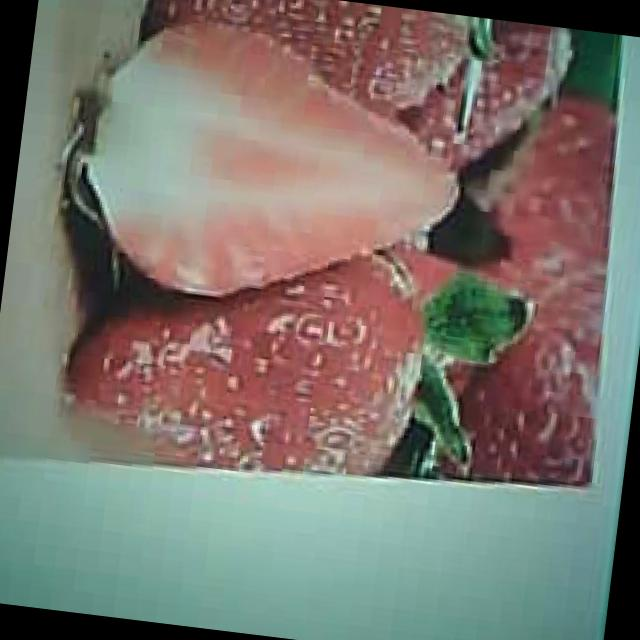strawberry: (68, 235, 446, 491)
